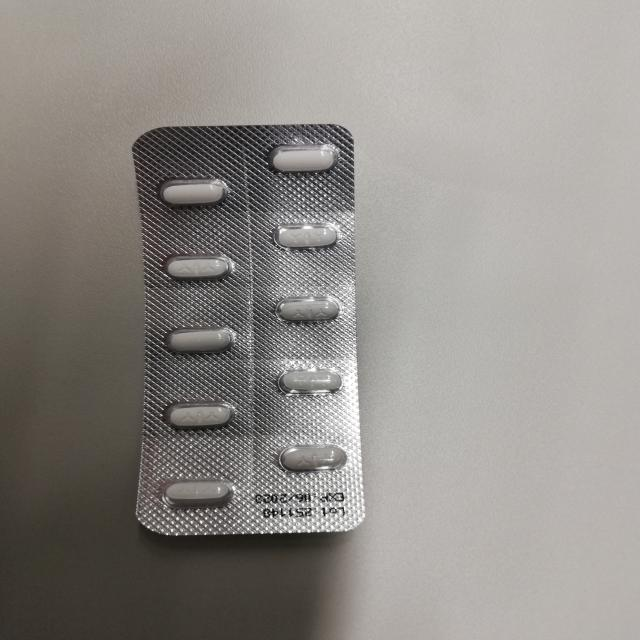Pill: (157, 318, 252, 363), (256, 137, 350, 182), (263, 360, 361, 402), (142, 171, 240, 212), (148, 243, 243, 285), (150, 468, 233, 515), (261, 289, 346, 333), (267, 438, 346, 483), (257, 216, 341, 252), (156, 402, 237, 434)
